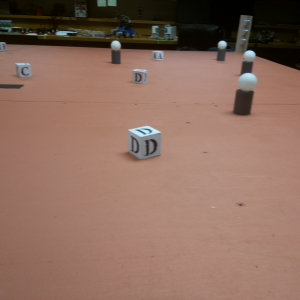blockA: (151, 50, 165, 62)
blockC: (17, 63, 31, 79)
blockD: (126, 126, 163, 162), (132, 67, 148, 84)
corner: (237, 10, 250, 51)
obstacle: (231, 73, 259, 116), (239, 51, 256, 76), (109, 40, 122, 65), (216, 40, 229, 62)
